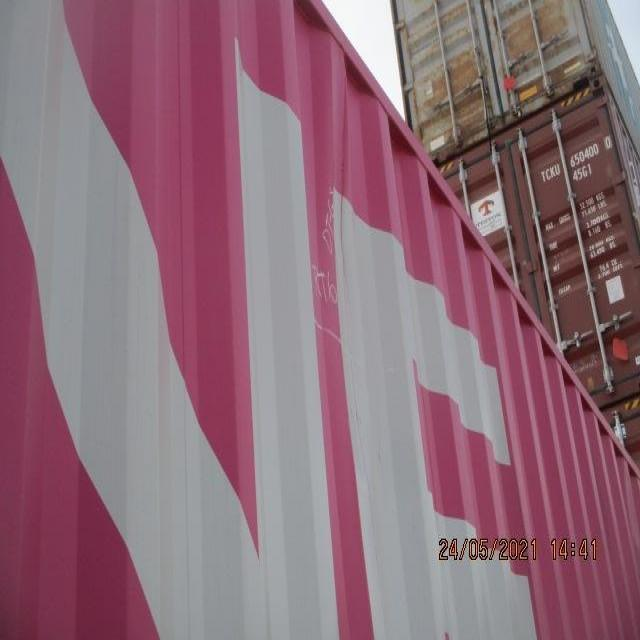Minor-Dent: (283, 72, 412, 377)
